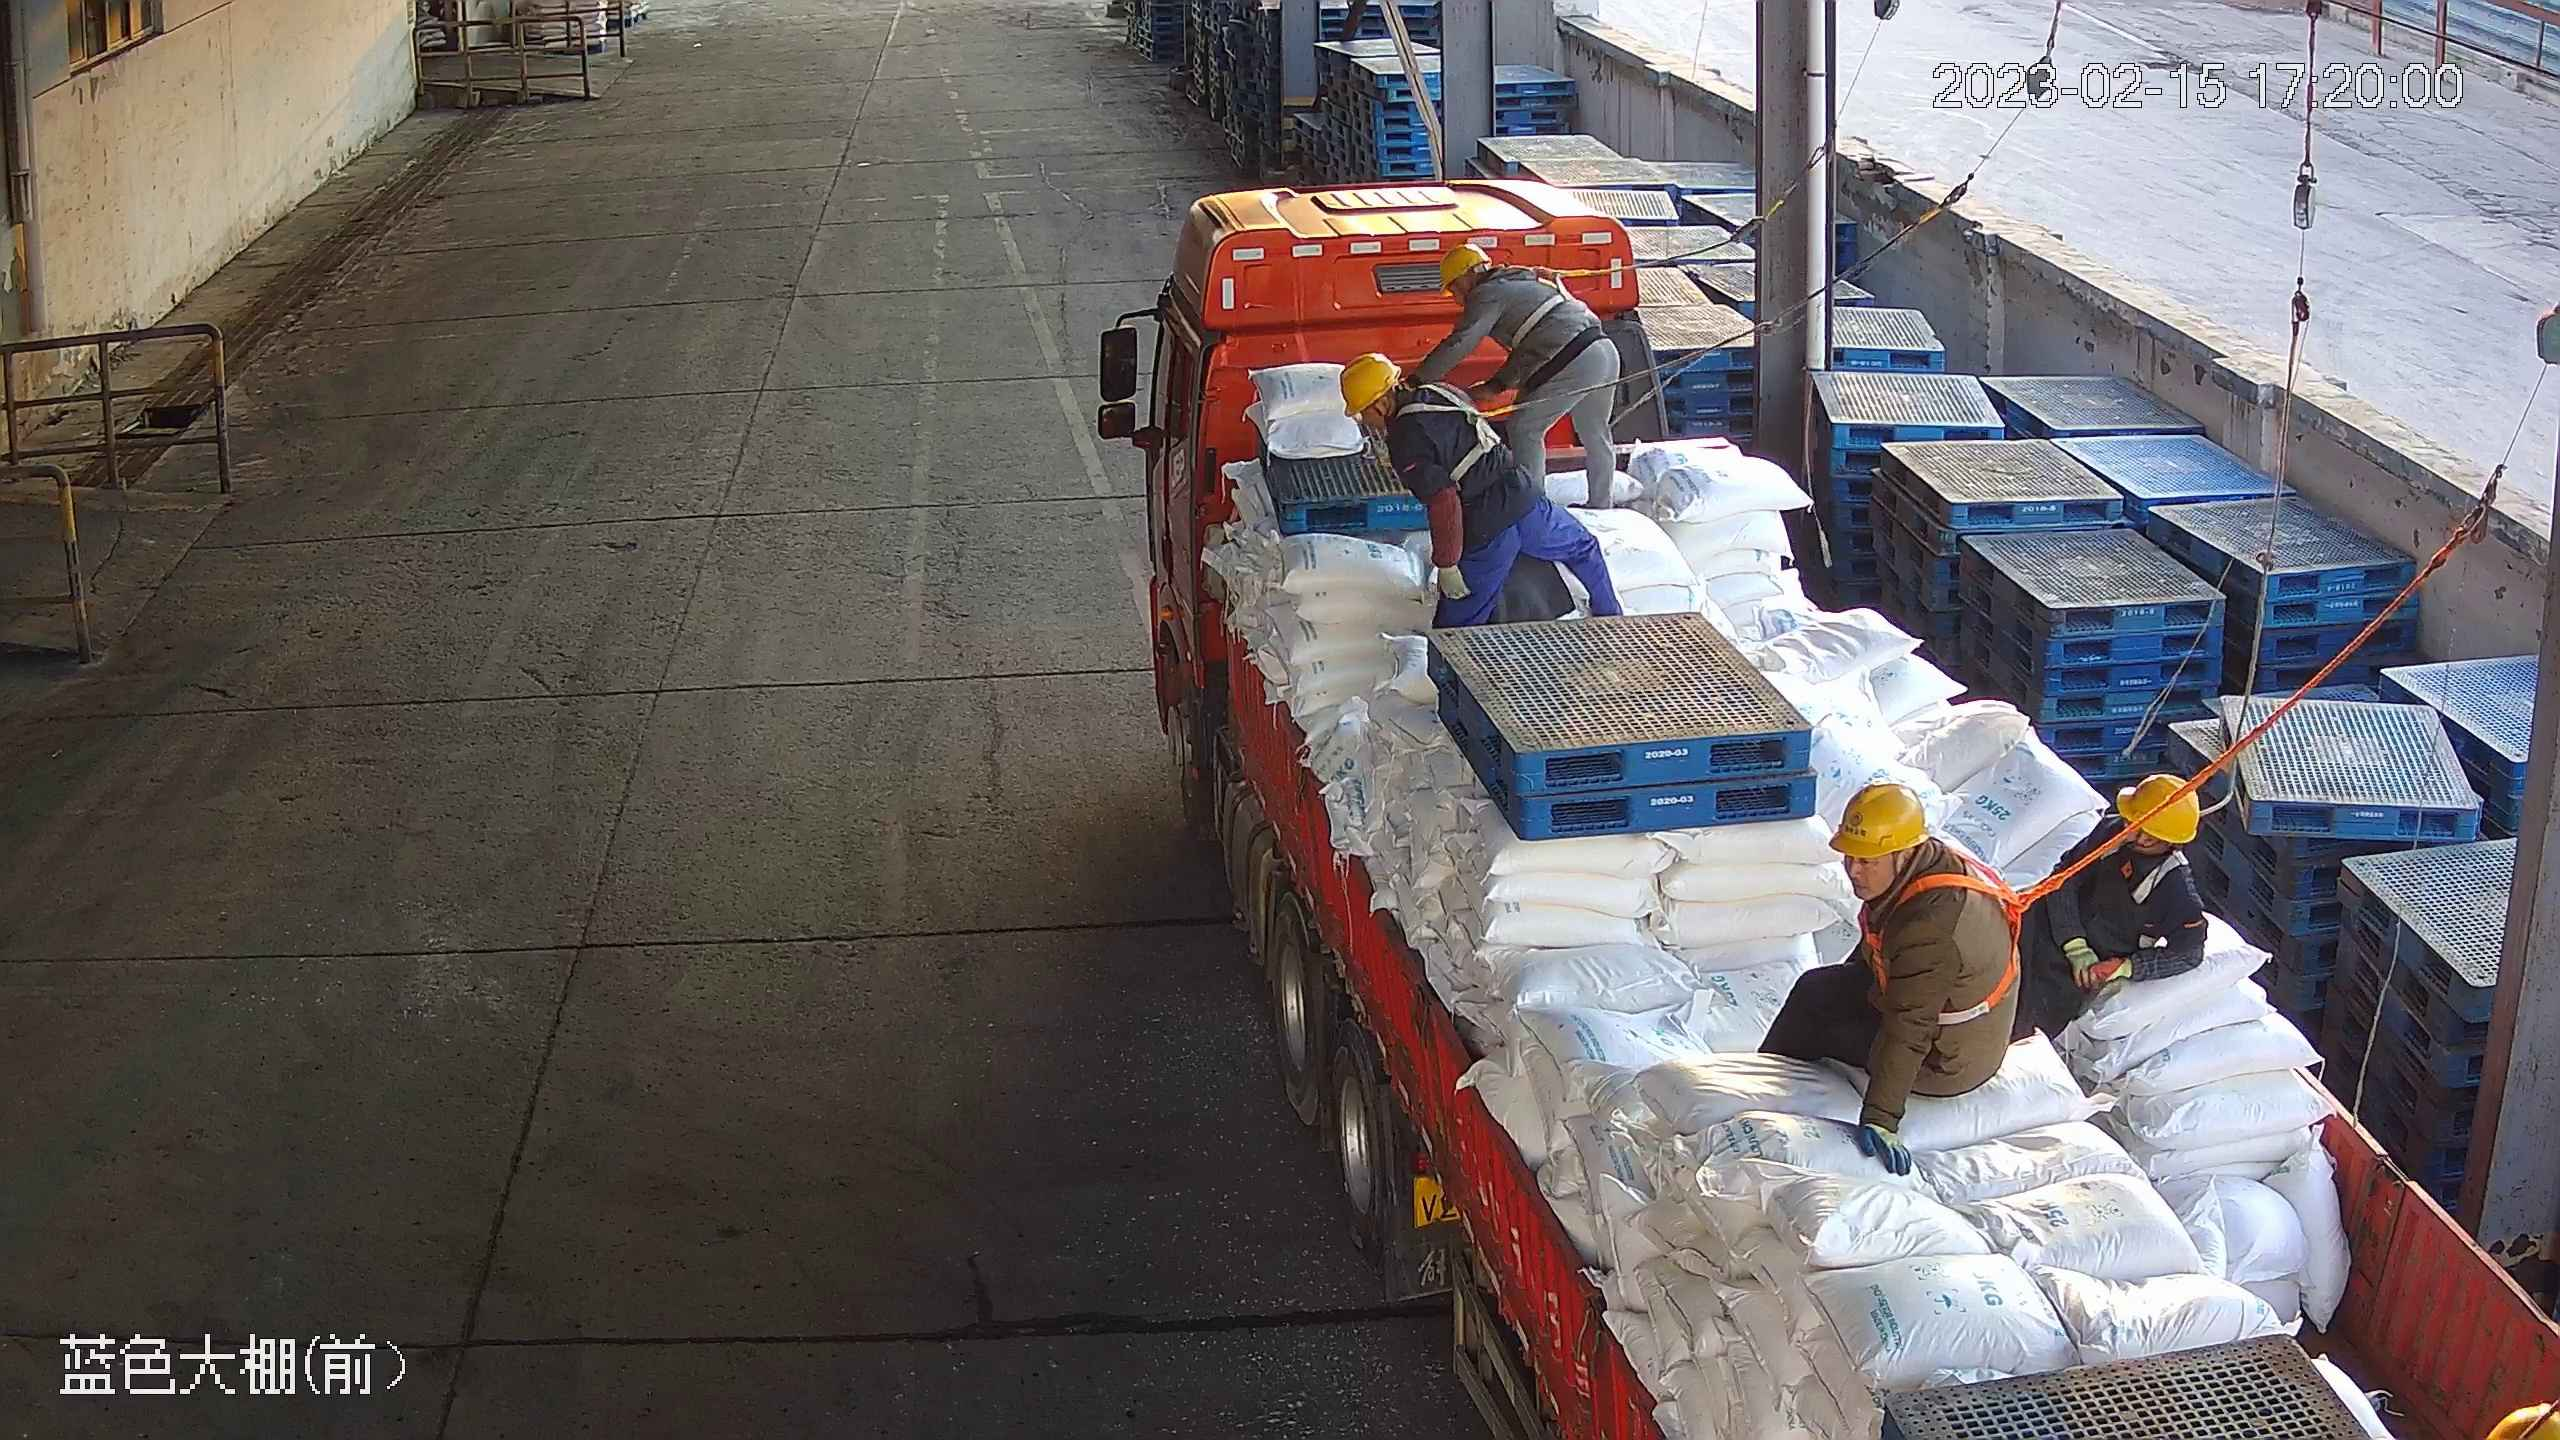belt: (1859, 865, 2029, 1029), (1390, 382, 1507, 473), (1496, 258, 1579, 338), (2109, 847, 2201, 903)
head: (1818, 768, 2009, 944), (2068, 770, 2209, 931), (1340, 349, 1477, 455), (1442, 247, 1553, 342)
helmet: (1827, 779, 1940, 871), (2114, 770, 2211, 855), (1333, 347, 1401, 414), (1431, 245, 1490, 290)
people: (1770, 779, 2027, 1175), (1331, 345, 1623, 638), (1403, 242, 1631, 516)
truck: (1105, 145, 2560, 1440)
